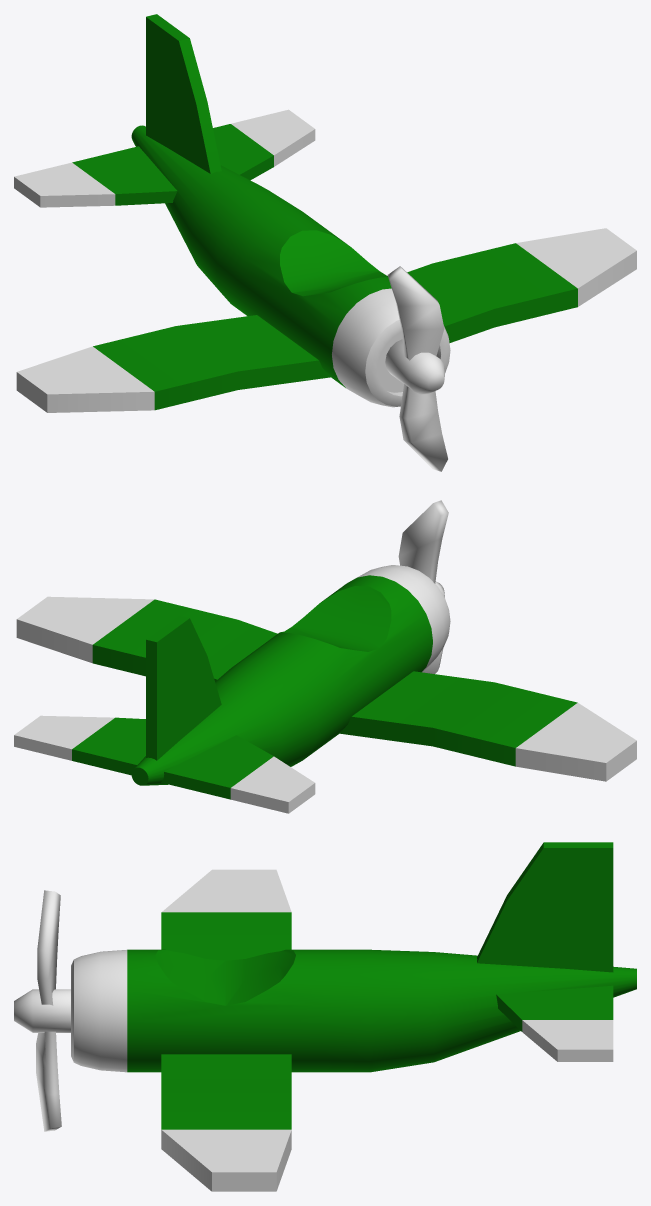
File: catplane.fbx
The picture shows the model from 3 angles, top to bottom: view 1: azimuth 30°, elevation 25°; view 2: azimuth 150°, elevation 25°; view 3: azimuth 270°, elevation 25°; orthographic projection. The views are drawn at different scales.
Visible parts, largest first — view 1: Plane, propeller; view 2: Plane, propeller; view 3: Plane, propeller.
Boxes of the visible parts, x1,y1,x2,y2 form: Plane: [14, 14, 636, 412]; propeller: [385, 266, 447, 471]; Plane: [14, 565, 636, 813]; propeller: [398, 500, 448, 673]; Plane: [71, 842, 636, 1191]; propeller: [14, 890, 70, 1131].
Bounding box in the file's own units: 292 × 125 × 254.
